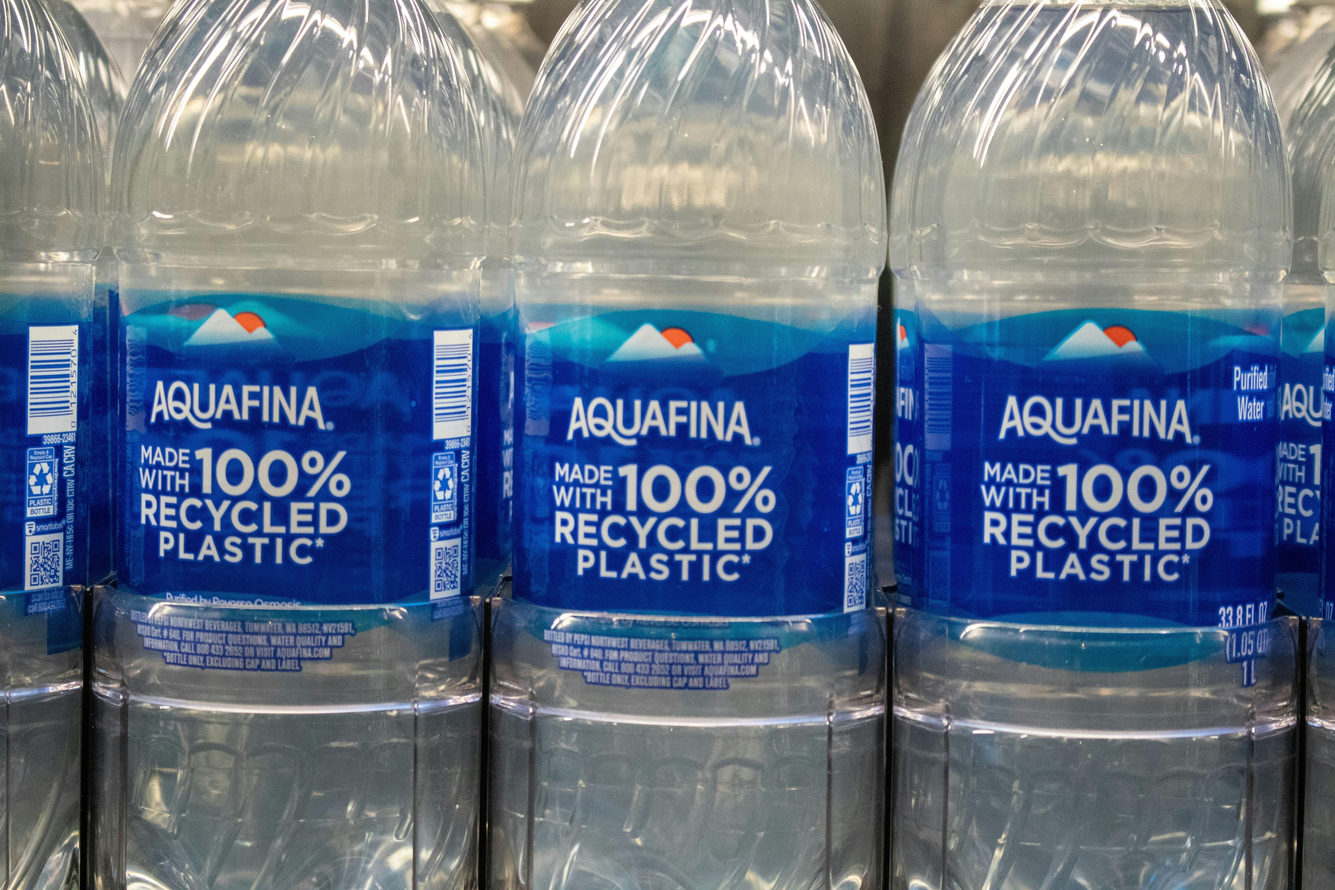Bottle-Detection: (912, 4, 1311, 888), (4, 0, 102, 890)
bottlr: (93, 0, 503, 881), (503, 0, 906, 886)
